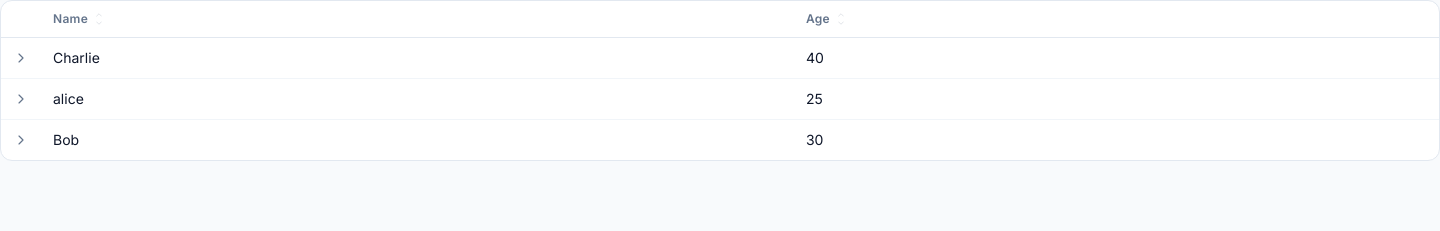
DataTable › renderExpanded toggles an inline panel open/closed on row click without navigating
Expected: the text "Details for Charlie" is not shown
Click the text "Charlie" at (76, 58), box [41,38,794,78]
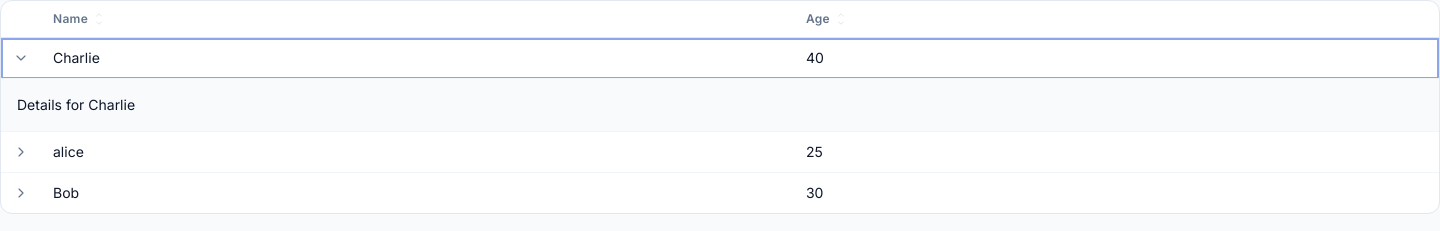
Expected: the text "Details for Charlie" is shown, [17,96,135,113]
Click the text "Charlie" at (76, 58), box [41,38,794,78]
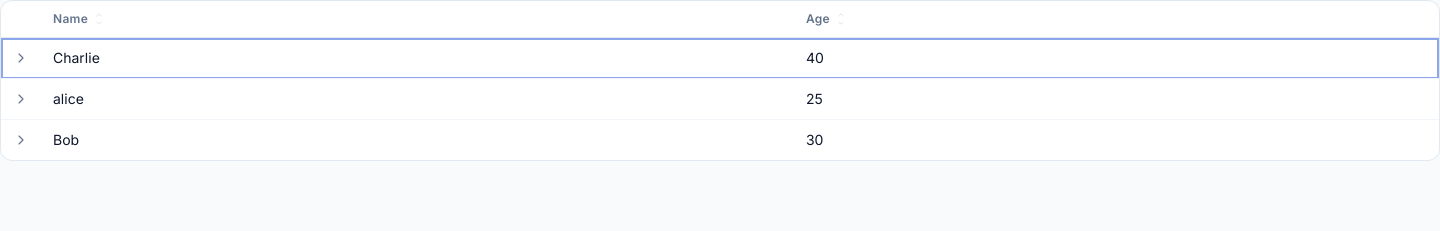
Expected: the text "Details for Charlie" is gone
